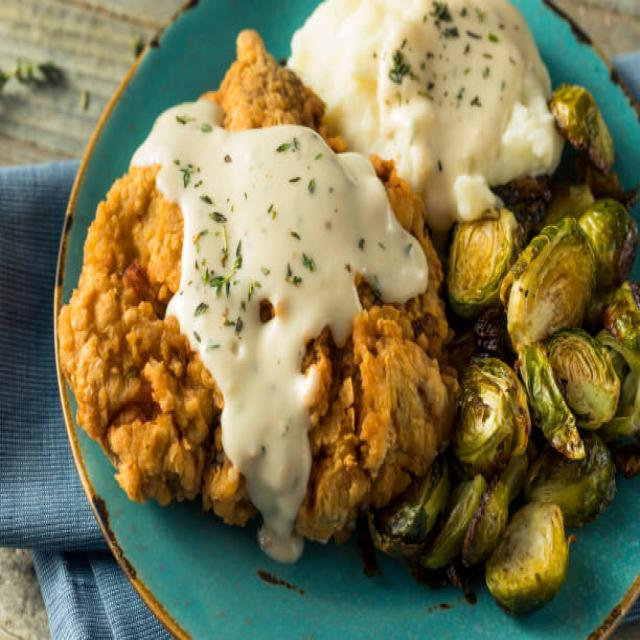Frango: (58, 0, 560, 549)
